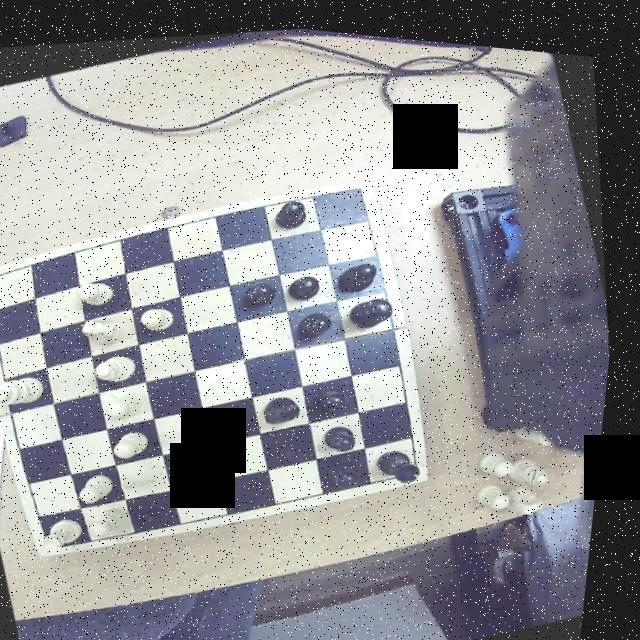chess-table-corners: (346, 169, 378, 199), (410, 444, 441, 474), (46, 531, 81, 557), (0, 268, 11, 294)
